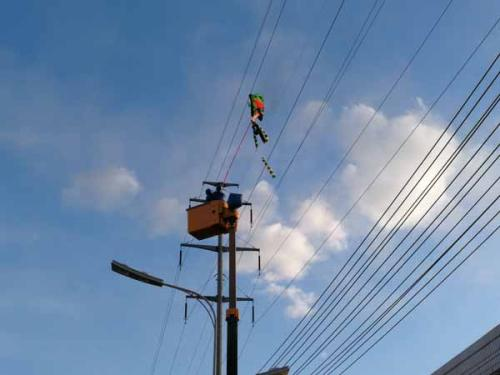kite: (244, 92, 280, 182)
